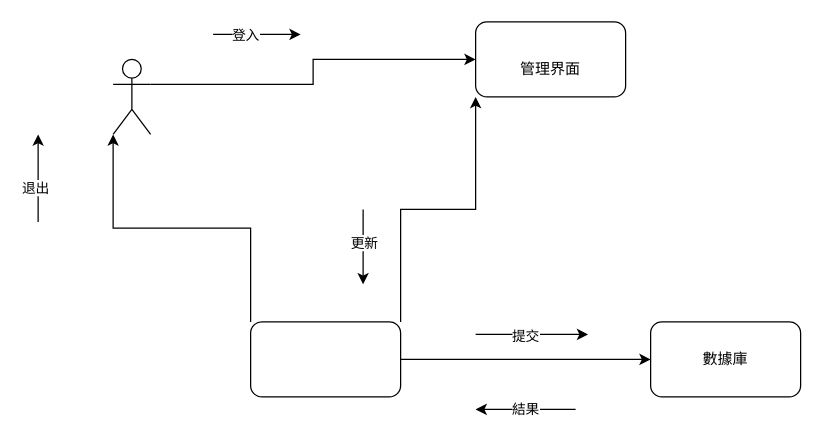
Image size: 823x441. Some labels were removed from this diagram. Each missing label, with the centre of its shape:
"Actor" belongs at point 131,96.
"店鋪信息" belongs at point 325,359.
